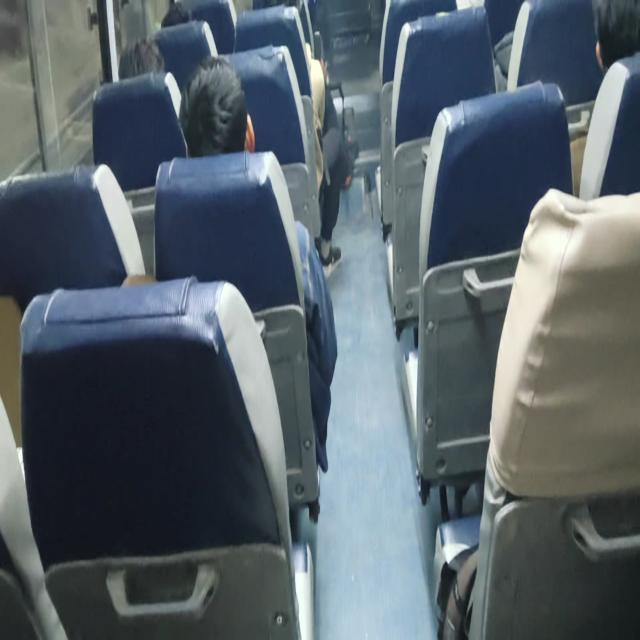person: (186, 62, 258, 152), (589, 11, 640, 88), (116, 43, 151, 72)
